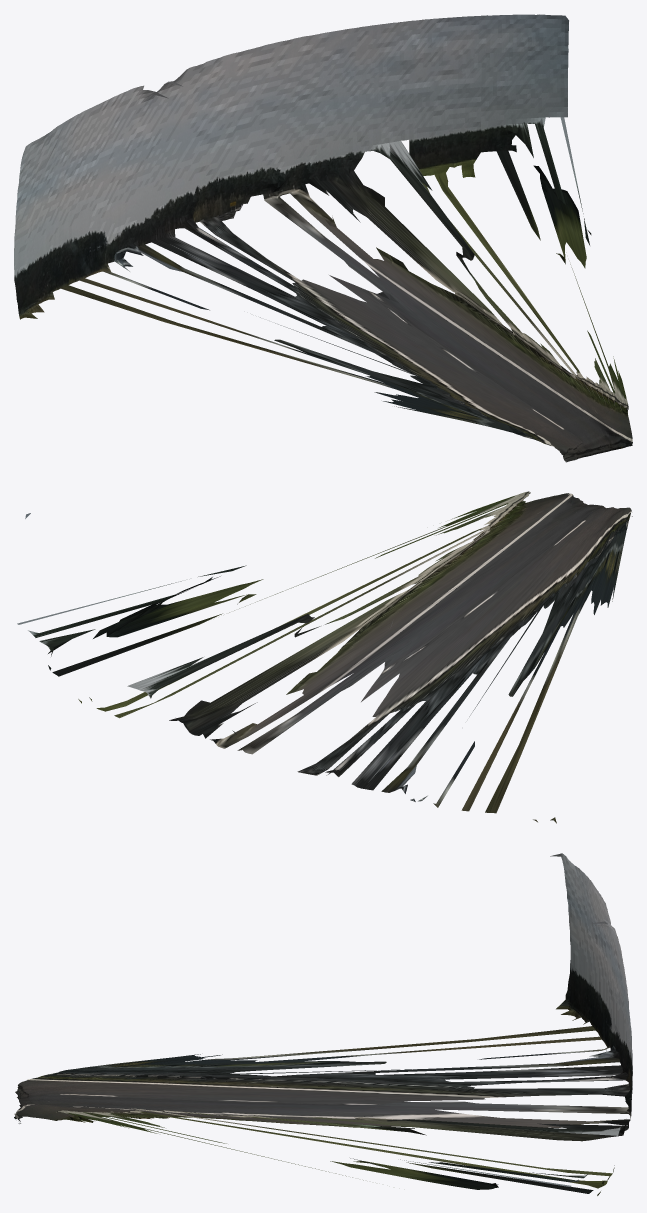
3 views of the same model, one above another, from view 1: azimuth 30°, elevation 25°; view 2: azimuth 150°, elevation 25°; view 3: azimuth 270°, elevation 25° (orthographic). The views are drawn at different scales.
Visible parts, largest first — view 1: defaultobject; view 2: defaultobject; view 3: defaultobject.
Part boxes in pixels (<box>): defaultobject: <box>14,14,632,462</box>; defaultobject: <box>17,491,632,823</box>; defaultobject: <box>14,853,632,1195</box>.
Bounding box in the file's own units: 41.12 × 13.27 × 44.32.
1 material, 1 textured.
